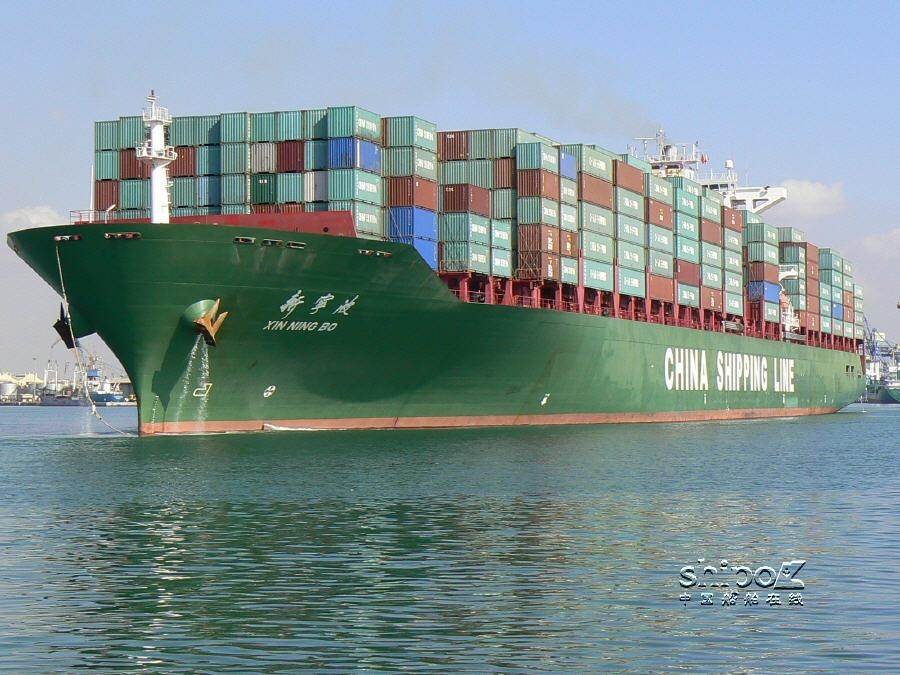Cargoship: (4, 105, 870, 447)
